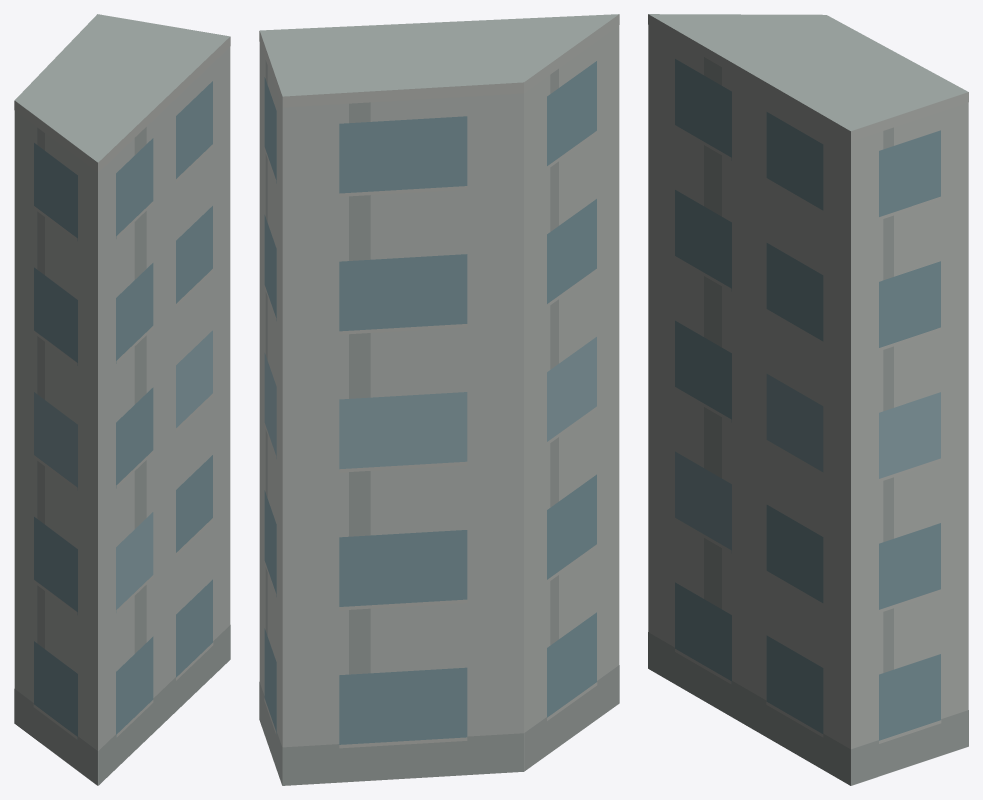
Rendered from survey-upis-32729720.glb.
The picture shows the model from 3 angles, left to right: view 1: azimuth 30°, elevation 25°; view 2: azimuth 150°, elevation 25°; view 3: azimuth 270°, elevation 25°; orthographic projection. The views are drawn at different scales.
Parts seen in each view (by area): view 1: survey-upis-32729720.tmp; view 2: survey-upis-32729720.tmp; view 3: survey-upis-32729720.tmp.
Part boxes in pixels (x1,y1,x2,y2): survey-upis-32729720.tmp: [14, 14, 230, 785]; survey-upis-32729720.tmp: [259, 14, 619, 785]; survey-upis-32729720.tmp: [648, 14, 968, 785].
Size of the model in its own units: 5.87 by 15.25 by 6.78.
